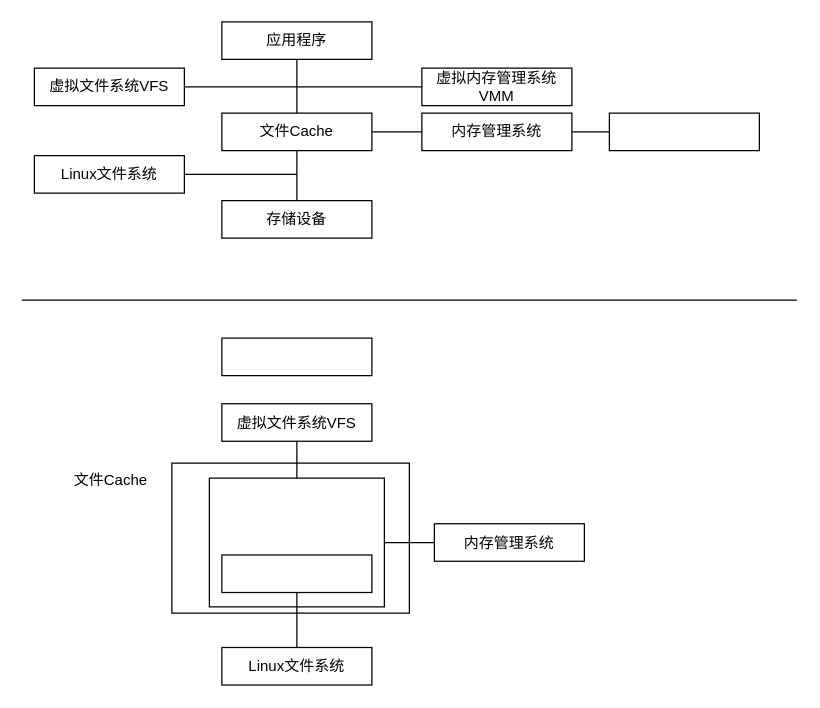
The diagram is 820 pixels wide and 708 high, and some of its shapes have lost their labels. Here are the shapes that lost their labels. From the top down, the box of each, then its label:
(608, 112, 759, 151): SLAB管理器
(221, 337, 372, 376): 用户空间
(208, 477, 384, 607): Page Cache
(221, 554, 372, 592): Buffer Cache
